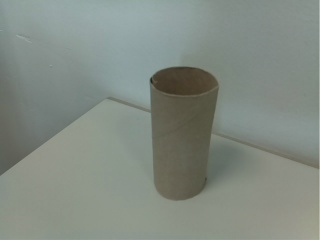rollo papel: (149, 66, 221, 201)
